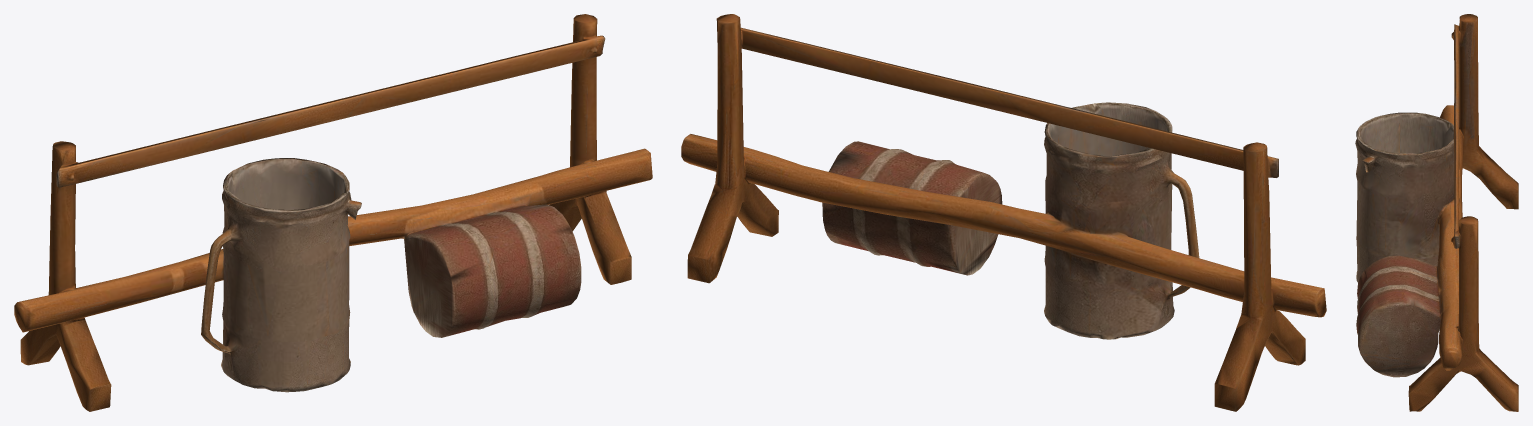
Rendered from barrier.glb.
3 renders of one model, left to right at view 1: azimuth 30°, elevation 25°; view 2: azimuth 150°, elevation 25°; view 3: azimuth 270°, elevation 25°, orthographic. The views are drawn at different scales.
Bounding box in the file's own units: 1.9 × 0.684 × 0.5373.
1 material, 1 textured.
